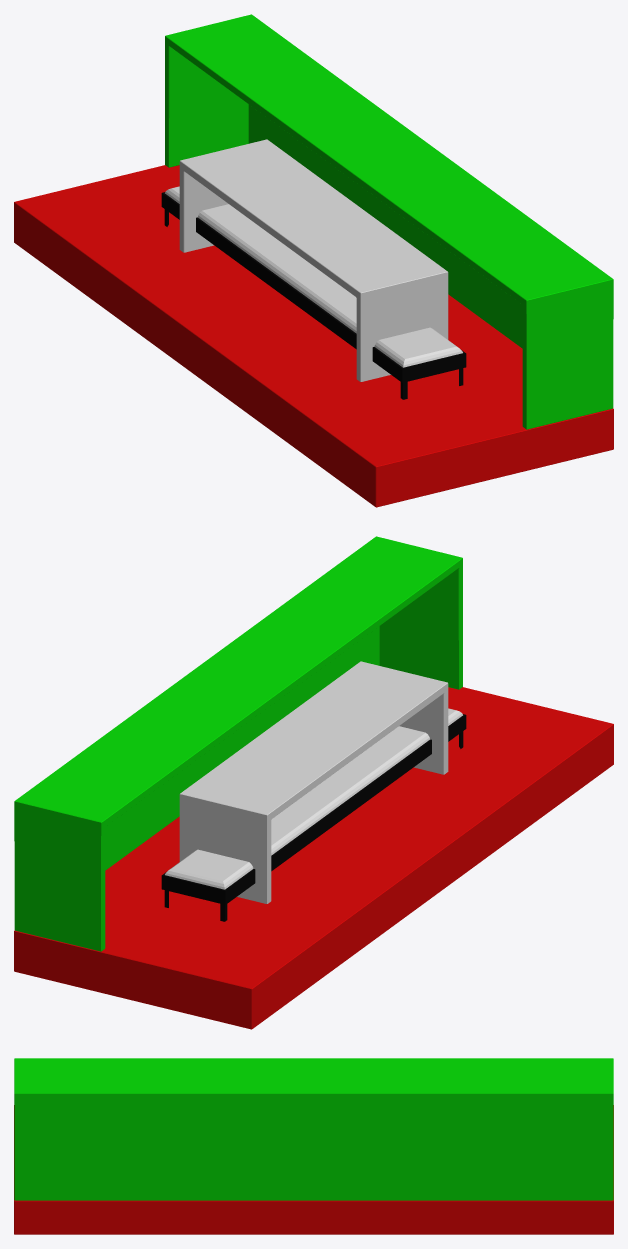
File: VolleyballProps.fbx
3 views of the same model, one above another, from view 1: azimuth 30°, elevation 25°; view 2: azimuth 150°, elevation 25°; view 3: azimuth 270°, elevation 25° (orthographic). The views are drawn at different scales.
Visible parts, largest first — view 1: MainUmpireDesk, UmpireDesk, Bench; view 2: MainUmpireDesk, UmpireDesk, Bench; view 3: MainUmpireDesk.
Boxes of the visible parts, x1,y1,x2,y2 form: MainUmpireDesk: (14,14,613,507); UmpireDesk: (179,139,448,381); Bench: (161,186,466,399); MainUmpireDesk: (14,536,613,1029); UmpireDesk: (179,661,448,903); Bench: (161,708,466,921); MainUmpireDesk: (14,1058,613,1234).
Bounding box in the file's own units: 158 × 108 × 417.
